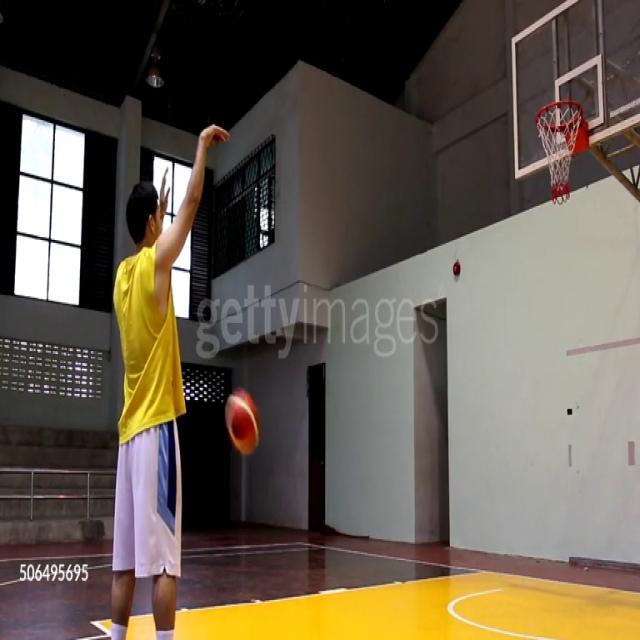ball: (222, 387, 261, 458)
